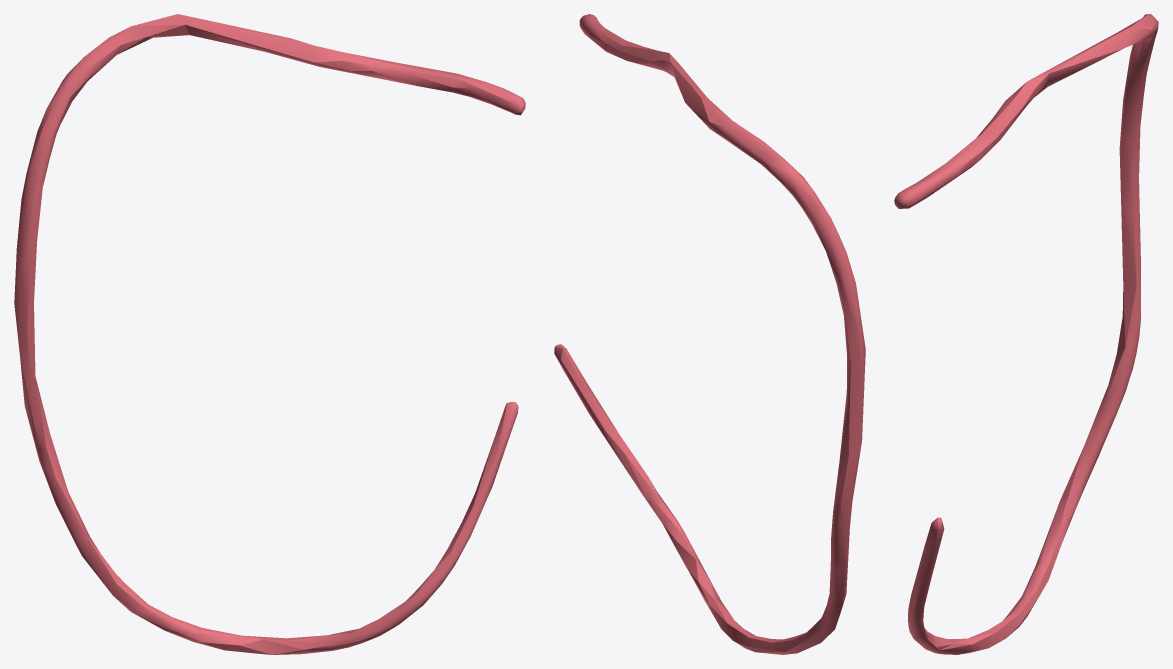
Rendered from fma15398_fj3545.glb.
The picture shows the model from 3 angles, left to right: view 1: azimuth 30°, elevation 25°; view 2: azimuth 150°, elevation 25°; view 3: azimuth 270°, elevation 25°; orthographic projection.
Visible parts, largest first — view 1: FMA15398_FJ3545; view 2: FMA15398_FJ3545; view 3: FMA15398_FJ3545.
Boxes of the visible parts, x1,y1,x2,y2 form: FMA15398_FJ3545: [14, 14, 525, 654]; FMA15398_FJ3545: [554, 14, 865, 654]; FMA15398_FJ3545: [894, 14, 1158, 654].
Size of the model in its own units: 0.0366 by 0.0515 by 0.0206.
